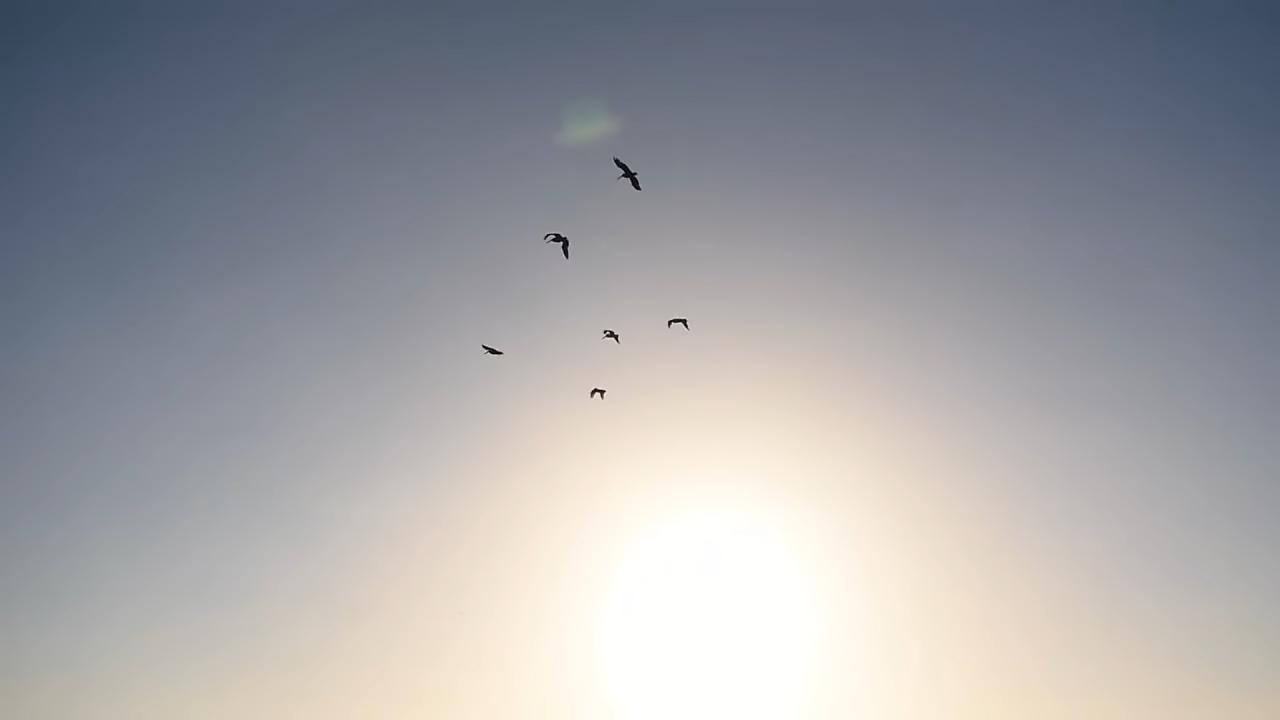Bird: (607, 151, 649, 200), (538, 224, 580, 268), (472, 336, 512, 364), (658, 311, 700, 336), (593, 323, 630, 351), (583, 380, 614, 407)
